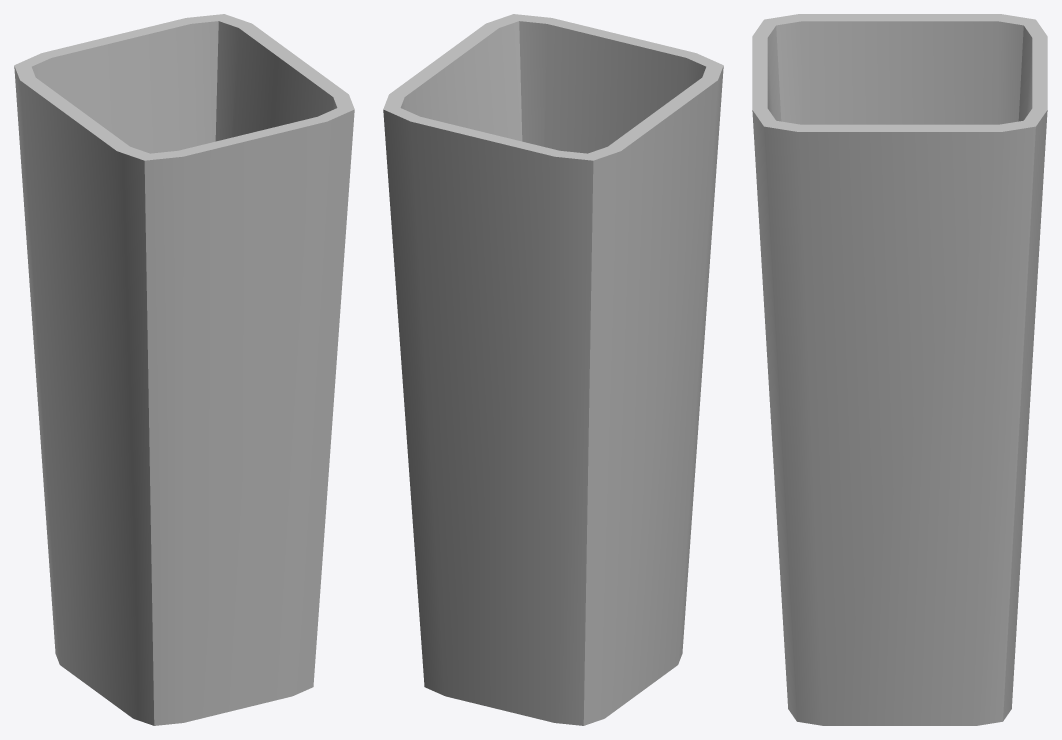
The model's file is Vase_02_C.FBX.
3 views of the same model, side by side, from view 1: azimuth 30°, elevation 25°; view 2: azimuth 150°, elevation 25°; view 3: azimuth 270°, elevation 25° (orthographic). The views are drawn at different scales.
Visible parts, largest first — view 1: Vase_02; view 2: Vase_02; view 3: Vase_02.
Boxes of the visible parts, <box> form: Vase_02: <box>14,14,354,725</box>; Vase_02: <box>383,14,723,725</box>; Vase_02: <box>752,14,1047,725</box>.
Size of the model in its own units: 37.5 by 90 by 39.6.
